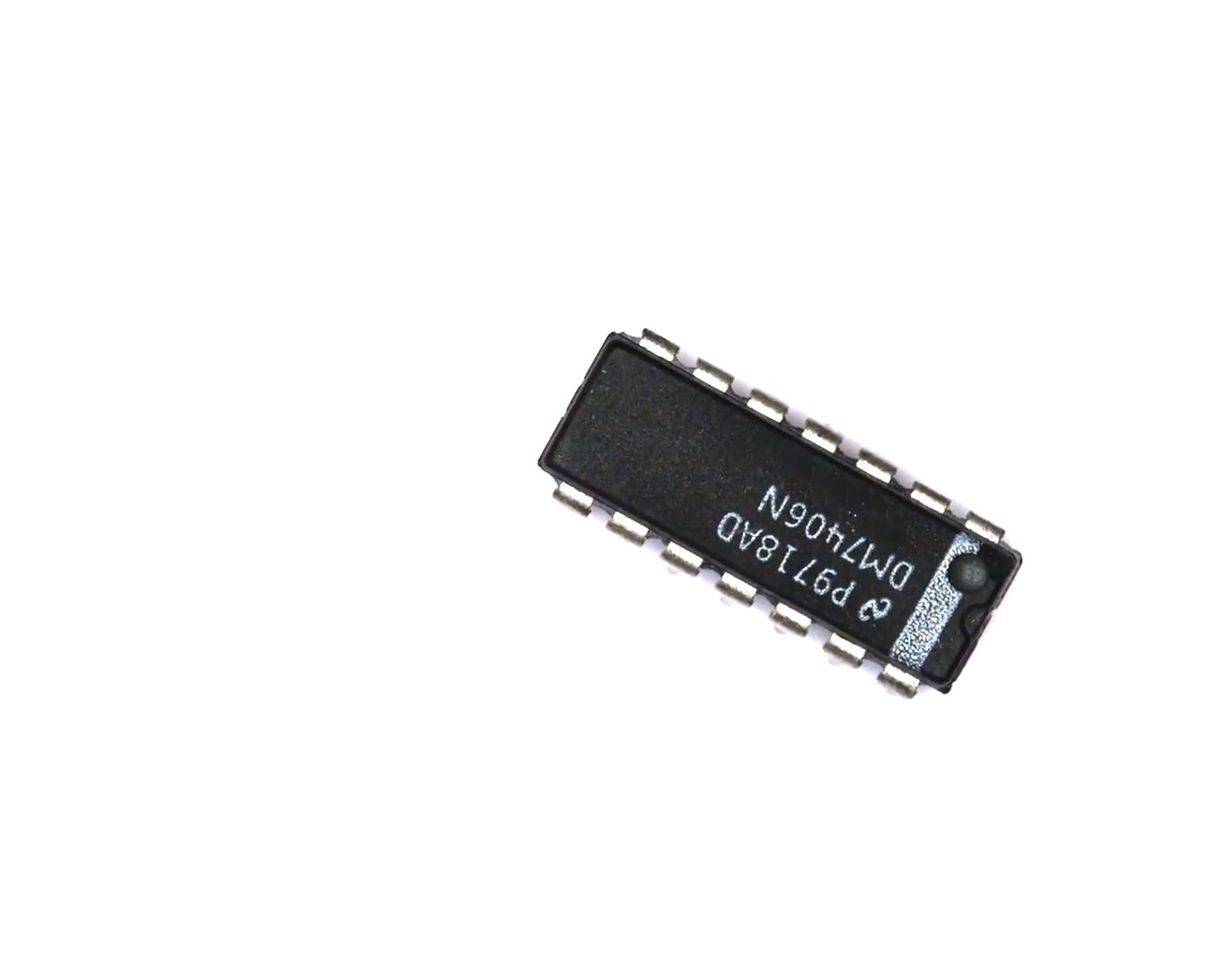IC: (512, 291, 1058, 739)
notch: (958, 597, 997, 647)
